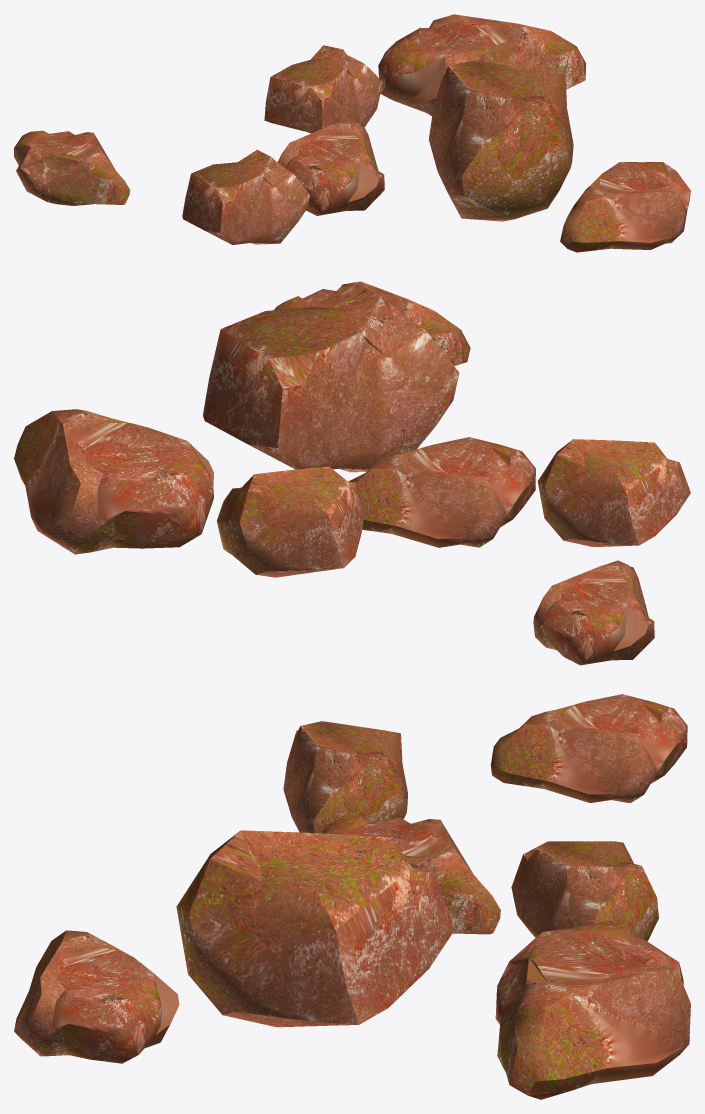
Rendered from cluster1.fbx.
The picture shows the model from 3 angles, top to bottom: view 1: azimuth 30°, elevation 25°; view 2: azimuth 150°, elevation 25°; view 3: azimuth 270°, elevation 25°; orthographic projection. The views are drawn at different scales.
Parts seen in each view (by area): view 1: Aset_nature_rock_S_wd3efb0_00_LOD4_3, Aset_nature_rock_S_wdcbcds_00_LOD3_5, Aset_nature_rock_S_wdcbcds_00_LOD3_2, Aset_nature_rock_S_wd3efb0_00_LOD4_2, Aset_nature_rock_S_wd3efb0_00_LOD4_4, Aset_nature_rock_S_wdcbcds_00_LOD3_3, Aset_nature_rock_S_wdcbcds_00_LOD3_4; view 2: Aset_nature_rock_S_wd3efb0_00_LOD4_3, Aset_nature_rock_S_wdcbcds_00_LOD3_5, Aset_nature_rock_S_wdcbcds_00_LOD3_3, Aset_nature_rock_S_wd3efb0_00_LOD4_4, Aset_nature_rock_S_wd3efb0_00_LOD4_2, Aset_nature_rock_S_wdcbcds_00_LOD3_4, Aset_nature_rock_S_wdcbcds_00_LOD3_2; view 3: Aset_nature_rock_S_wd3efb0_00_LOD4_3, Aset_nature_rock_S_wdcbcds_00_LOD3_5, Aset_nature_rock_S_wdcbcds_00_LOD3_4, Aset_nature_rock_S_wdcbcds_00_LOD3_2, Aset_nature_rock_S_wd3efb0_00_LOD4_2, Aset_nature_rock_S_wd3efb0_00_LOD4_4, Aset_nature_rock_S_wdcbcds_00_LOD3_3.
Part boxes in pixels (x1,y1,x2,y2): Aset_nature_rock_S_wd3efb0_00_LOD4_3: (429,60,573,221); Aset_nature_rock_S_wdcbcds_00_LOD3_5: (378,14,586,115); Aset_nature_rock_S_wdcbcds_00_LOD3_2: (560,162,690,252); Aset_nature_rock_S_wd3efb0_00_LOD4_2: (182,149,309,244); Aset_nature_rock_S_wd3efb0_00_LOD4_4: (264,45,382,133); Aset_nature_rock_S_wdcbcds_00_LOD3_3: (278,119,384,215); Aset_nature_rock_S_wdcbcds_00_LOD3_4: (14,130,130,205); Aset_nature_rock_S_wd3efb0_00_LOD4_3: (203,282,459,472); Aset_nature_rock_S_wdcbcds_00_LOD3_5: (14,409,213,554); Aset_nature_rock_S_wdcbcds_00_LOD3_3: (348,437,535,547); Aset_nature_rock_S_wd3efb0_00_LOD4_4: (217,466,364,577); Aset_nature_rock_S_wd3efb0_00_LOD4_2: (537,439,690,546); Aset_nature_rock_S_wdcbcds_00_LOD3_4: (533,560,654,665); Aset_nature_rock_S_wdcbcds_00_LOD3_2: (274,281,470,365); Aset_nature_rock_S_wd3efb0_00_LOD4_3: (176,830,455,1027); Aset_nature_rock_S_wdcbcds_00_LOD3_5: (495,920,690,1099); Aset_nature_rock_S_wdcbcds_00_LOD3_4: (490,694,687,803); Aset_nature_rock_S_wdcbcds_00_LOD3_2: (14,930,179,1063); Aset_nature_rock_S_wd3efb0_00_LOD4_2: (283,721,407,833); Aset_nature_rock_S_wd3efb0_00_LOD4_4: (511,841,658,941); Aset_nature_rock_S_wdcbcds_00_LOD3_3: (322,817,500,934).
Size of what is drawn, in the model's own units: 222 by 53.43 by 173.
Materials: 2 (2 with a texture image).
